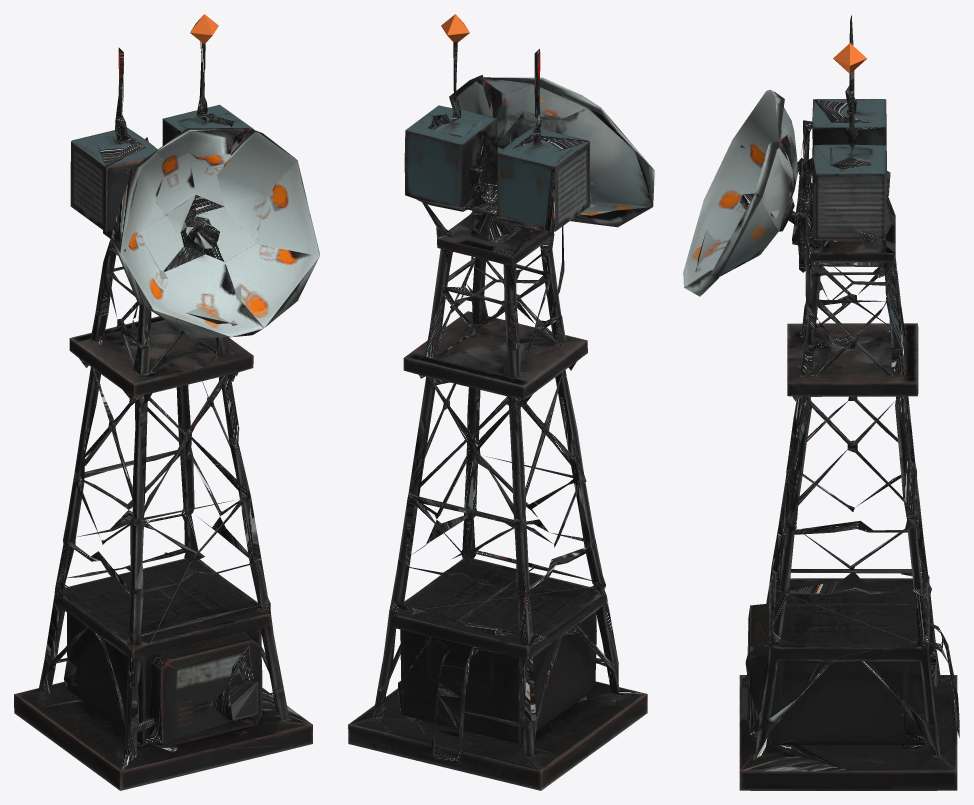
Rendered from obj_relay_v1.glb.
3 views of the same model, side by side, from view 1: azimuth 30°, elevation 25°; view 2: azimuth 150°, elevation 25°; view 3: azimuth 270°, elevation 25° (orthographic). The views are drawn at different scales.
Visible parts, largest first — view 1: object 1; view 2: object 1; view 3: object 1, steady_beacon.
Part boxes in pixels (x1=…): object 1: x1=14, y1=41, x2=319, y2=790; object 1: x1=348, y1=41, x2=654, y2=790; object 1: x1=683, y1=15, x2=959, y2=790; steady_beacon: x1=833, y1=43, x2=866, y2=73.
Size of the model in its own units: 0.5681 by 1.93 by 0.6702.
2 materials, 1 textured.
